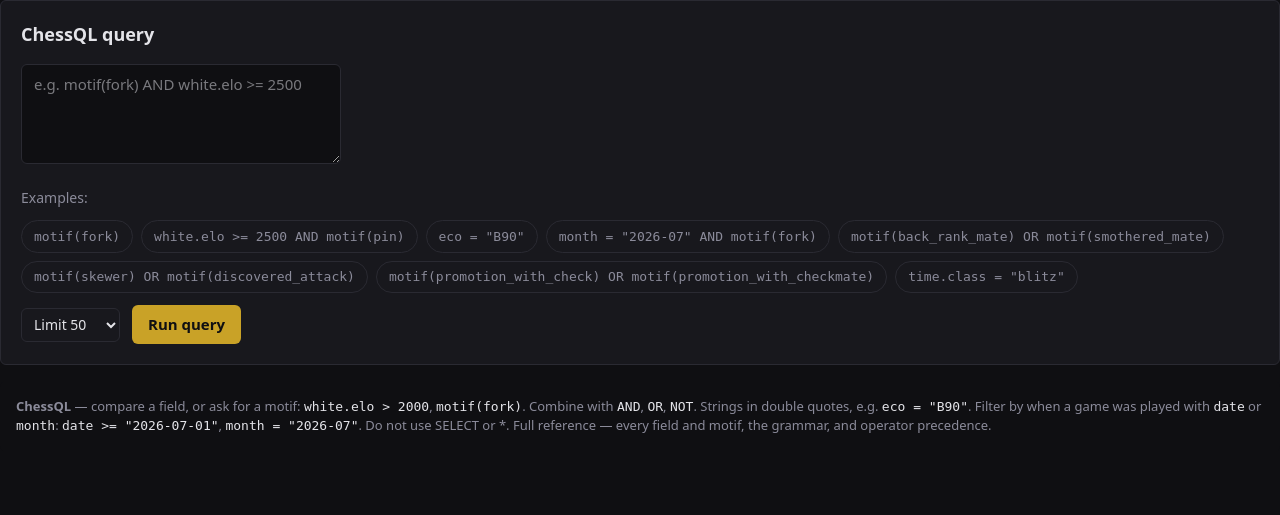
it: QueryView › shows the API error message when a query fails
The image size is (1280, 515).
Type "played.at = NULL" into the text box with placeholder "e.g. motif(fork) AND white.elo >= 2500".
click(181, 114); type("played.at = NULL")  # box [21,64,341,164]
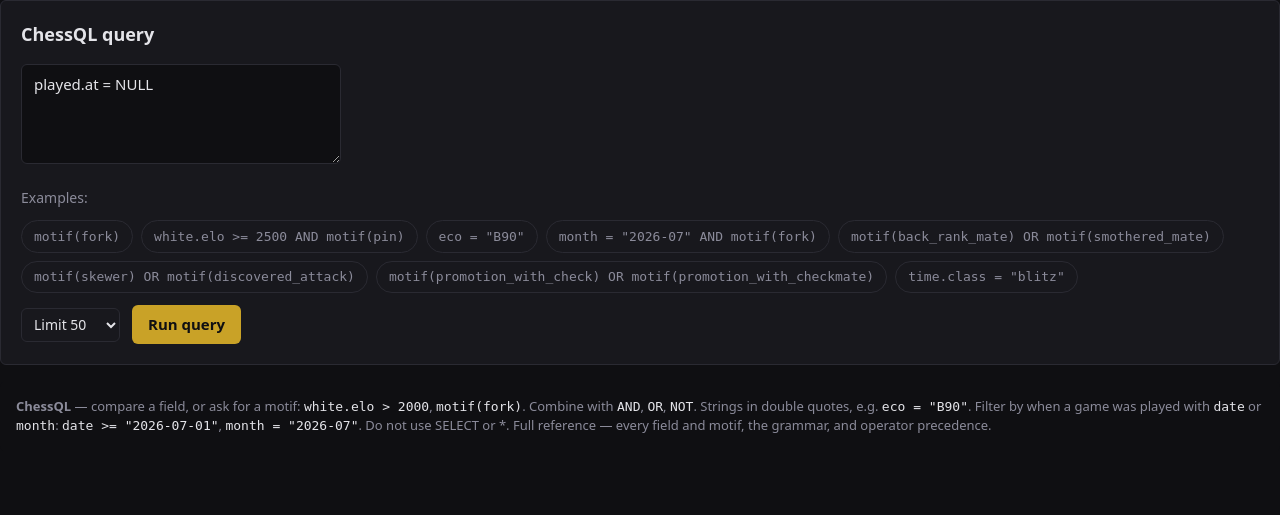
Click the button "Run query".
click(187, 325)  # box [132,305,241,344]
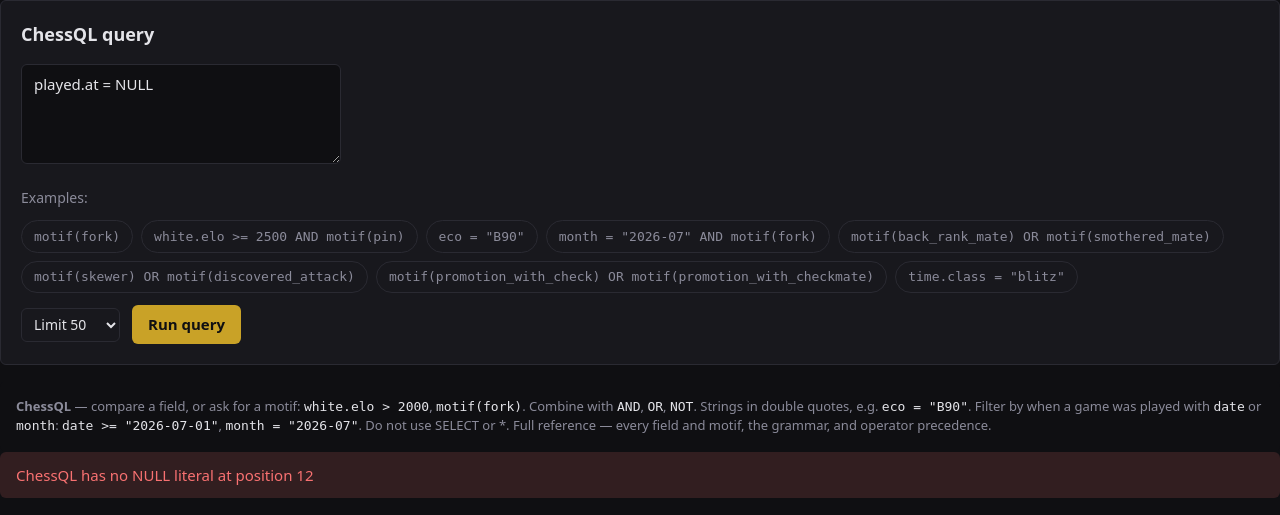
Now the text "ChessQL has no NULL literal at position 12" is shown, box [0,452,1279,498]
